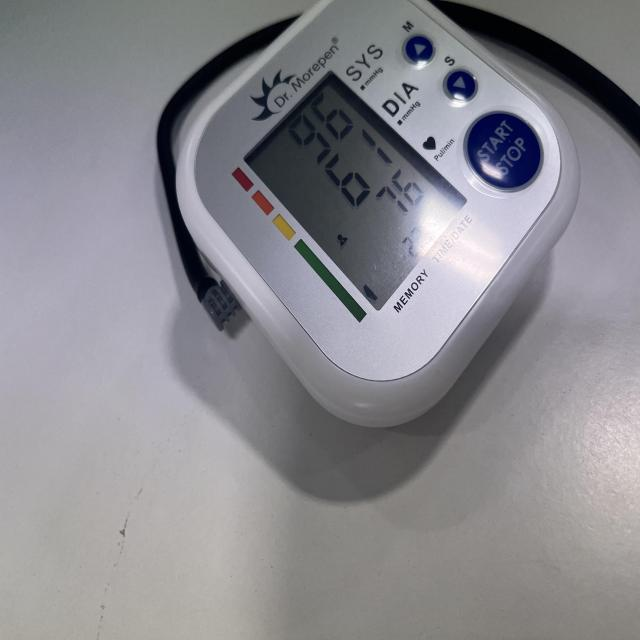bp: (163, 0, 578, 431)
